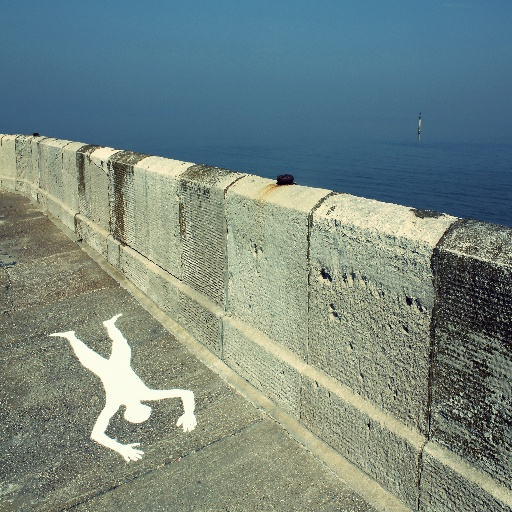hand: (119, 439, 144, 462), (175, 409, 197, 435)
